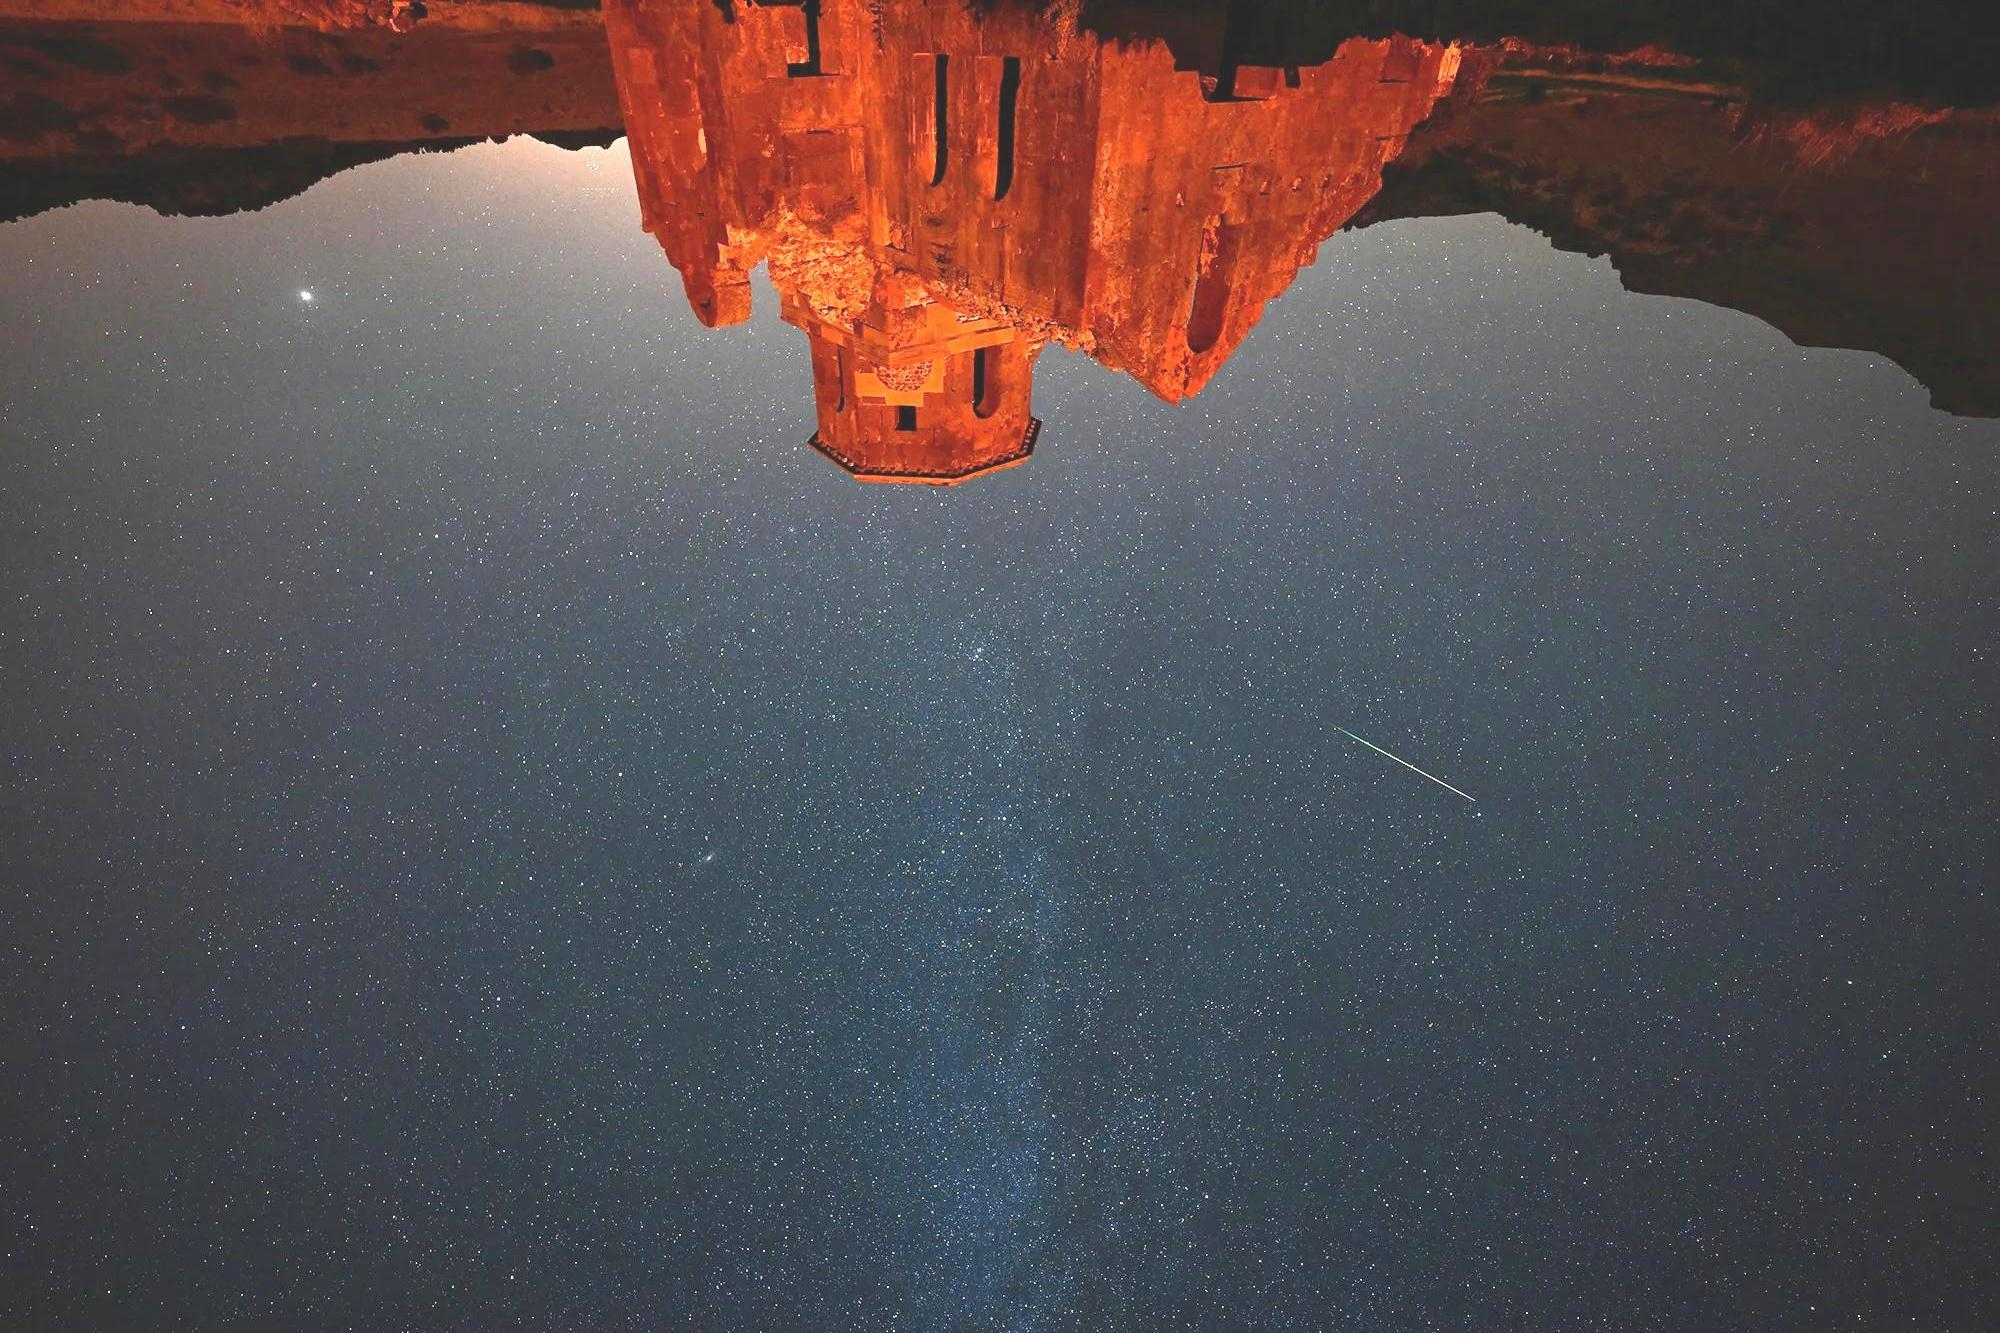meteorite: (1303, 708, 1506, 823)
